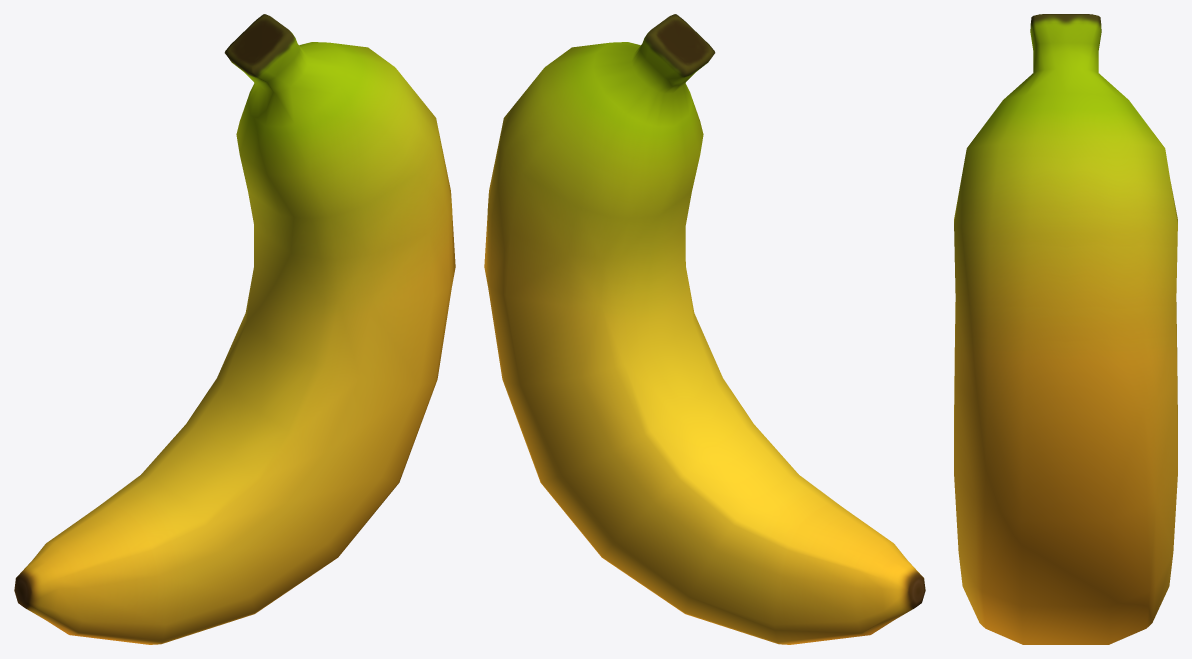
File: banana.glb
3 views of the same model, side by side, from view 1: azimuth 30°, elevation 25°; view 2: azimuth 150°, elevation 25°; view 3: azimuth 270°, elevation 25° (orthographic). The views are drawn at different scales.
Parts seen in each view (by area): view 1: Banana; view 2: Banana; view 3: Banana.
Boxes of the visible parts, <box> form: Banana: <box>14,14,455,644</box>; Banana: <box>484,14,925,644</box>; Banana: <box>954,14,1177,644</box>.
Size of the model in its own units: 77.28 by 102 by 30.91.
1 material, 1 textured.
